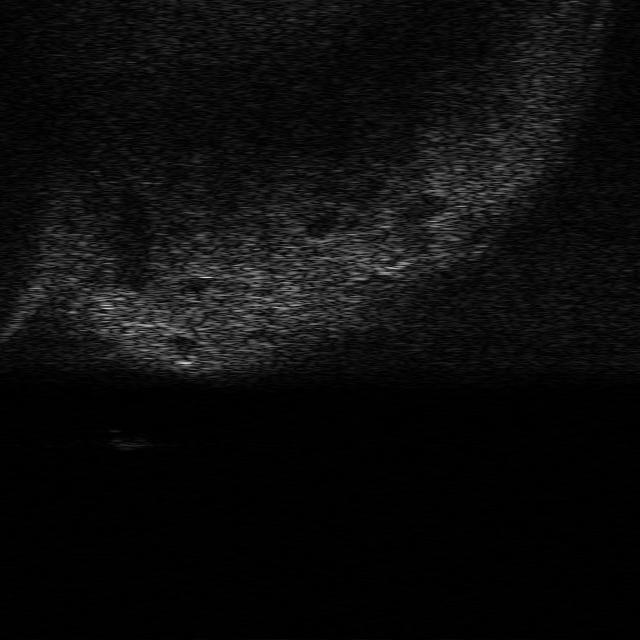cube: (109, 428, 151, 452)
